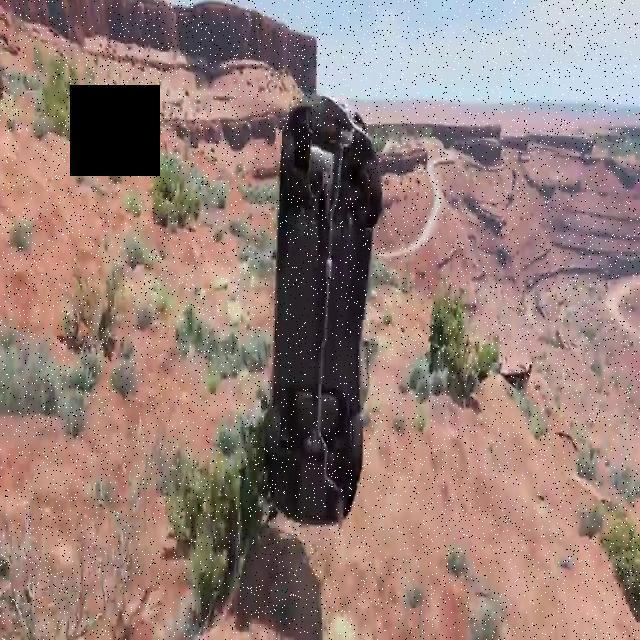single accident: (205, 47, 438, 550)
